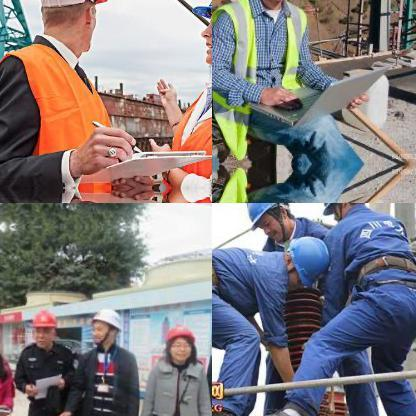Helmet: (22, 0, 111, 50), (279, 231, 333, 291), (238, 203, 298, 244), (89, 303, 124, 351), (162, 320, 196, 362), (29, 305, 59, 349), (312, 203, 369, 223)
